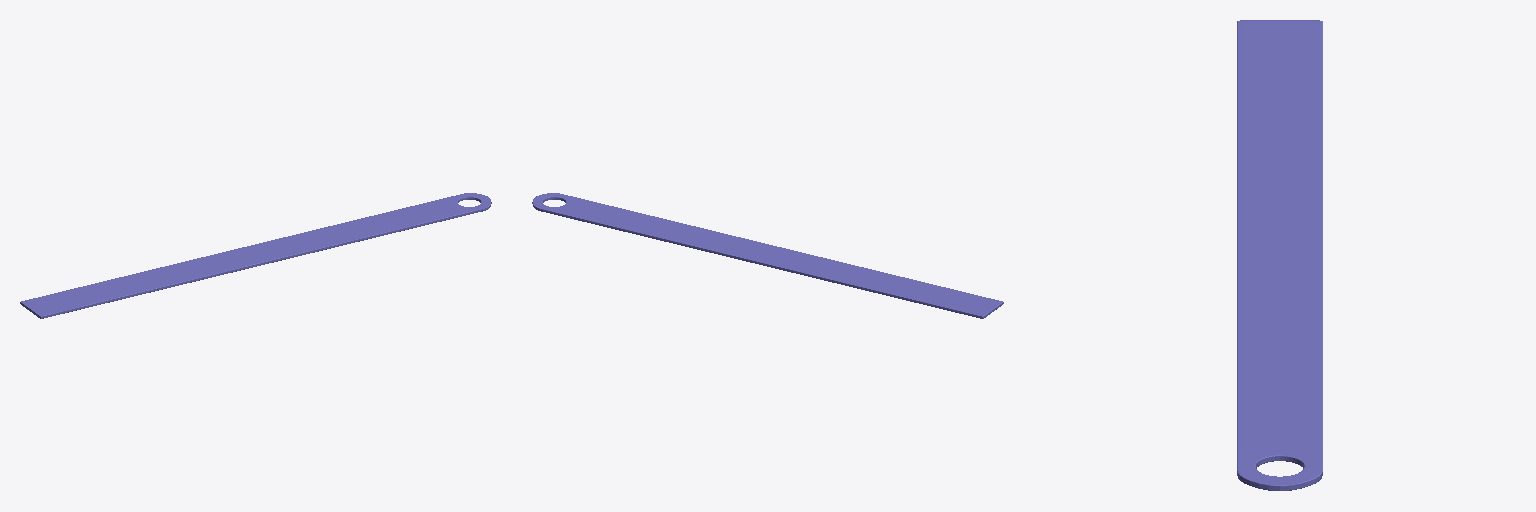
URDF robot description (ruler):
<?xml version="1.0" ?>
<robot name="ruler">
  <link name="rulerBody">
    <inertial>
      <origin rpy="0 0 0" xyz="0 0 0"/>
       <mass value="2.0"/>
       <inertia ixx="1" ixy="0" ixz="0" iyy="1" iyz="0" izz="1"/>
    </inertial>
    <visual>
      <origin rpy="0 0 0" xyz="0 0 0"/>
      <geometry>
		<mesh filename="ruler.obj" scale="1 1 1"/>
      </geometry>
       <material name="white">
        <color rgba="0.5 0.5 0.8 1"/>
      </material>
    </visual>
    <collision>
      <origin rpy="0 0 0" xyz="0 0 0"/>
      <geometry>
	 	<box size="0.36 0.028 0.002"/>
      </geometry>
    </collision>
  </link>
</robot>

--- What the picture shows (computed from the rendered views, not written in the file) ---
The picture shows the robot from 3 angles, left to right: view 1: azimuth 30°, elevation 25°; view 2: azimuth 150°, elevation 25°; view 3: azimuth 270°, elevation 25°; orthographic projection.
Model ruler with 1 links and 0 joints (none), rooted at rulerBody, posed all joints at 0.
Visible links, largest first — view 1: rulerBody; view 2: rulerBody; view 3: rulerBody.
Link boxes in pixels (left/top/right/bottom): rulerBody: left=20, top=193, right=491, bottom=318; rulerBody: left=532, top=193, right=1003, bottom=318; rulerBody: left=1237, top=20, right=1322, bottom=490.
Size in the robot's own frame: 0.3617 by 0.0282 by 0.0022 metres.
1 mesh visuals loaded from 1 distinct referenced files (1 OBJ).
